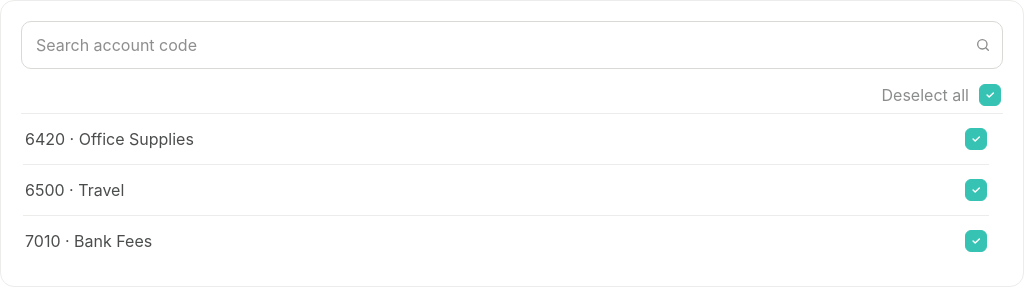
Test: AccountCodesCard › search › says no match rather than going blank
Type "zzz" into the field with placeholder "Search account code".
click(512, 45); type("zzz")  # box [21, 21, 1003, 69]
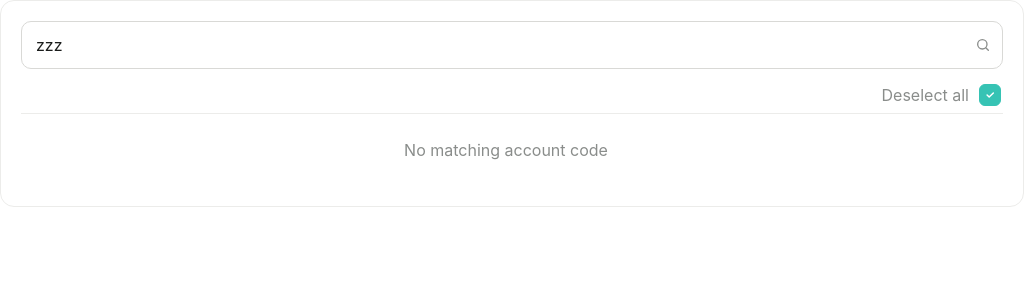
Result: the list item "No matching account code" is shown at [404, 140, 608, 160]
